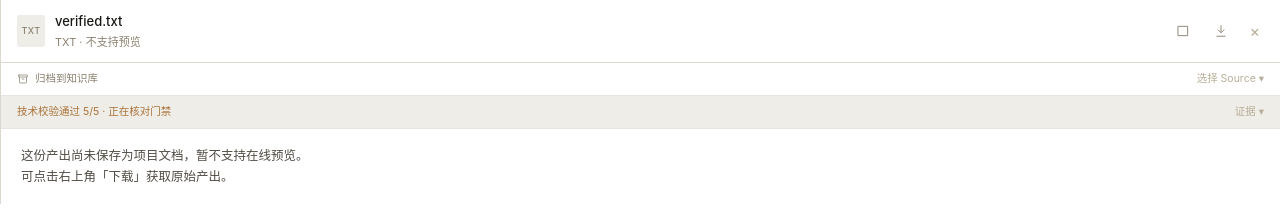
it: ChatArtifactPreview › saves a technically verified generated artifact to project documents explicitly
The width and height of the screenshot is (1280, 221).
Click the button named "保存到项目文档" at coordinates (1183, 31), box [1169,17,1197,45]
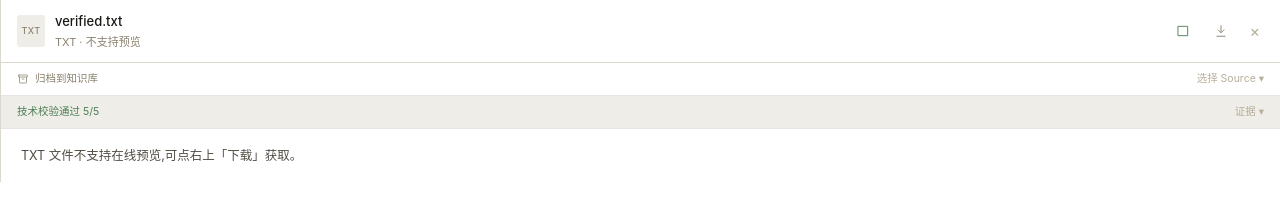
Expected: the button named "已保存到项目文档" is shown, [1169,17,1197,45]
